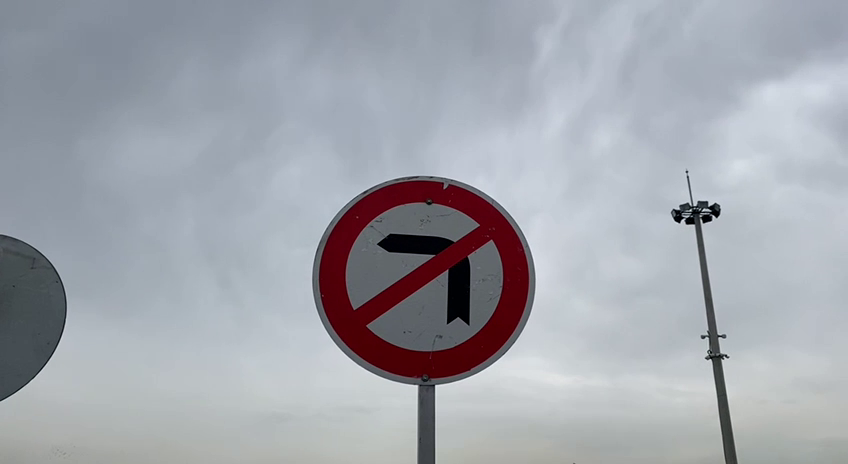noTurnLeft: (306, 173, 539, 391)
